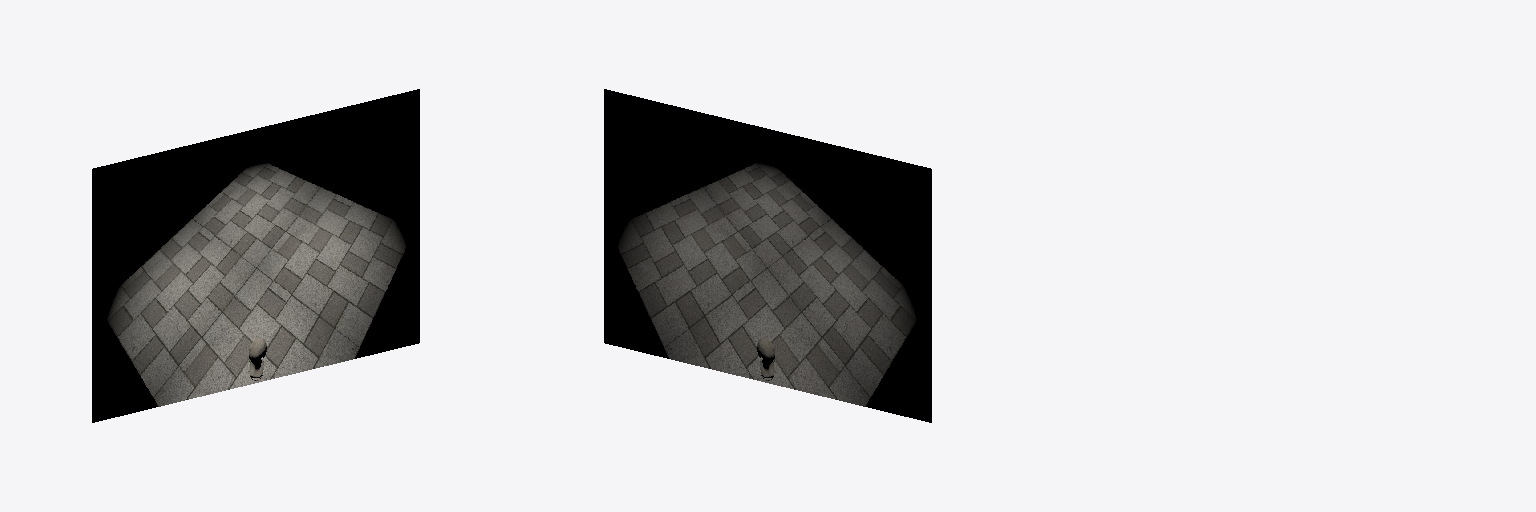
The picture shows the model from 3 angles: view 1: azimuth 30°, elevation 25°; view 2: azimuth 150°, elevation 25°; view 3: azimuth 270°, elevation 25°; orthographic projection.
Parts seen in each view (by area): view 1: ball_canvas_o; view 2: ball_canvas_o; view 3: none.
Boxes of the visible parts, x1=… form: ball_canvas_o: x1=92, y1=89, x2=419, y2=422; ball_canvas_o: x1=604, y1=89, x2=931, y2=422.
Size of the model in its own units: 0.5394 by 0.4003 by 0.
1 materials, 1 textured.